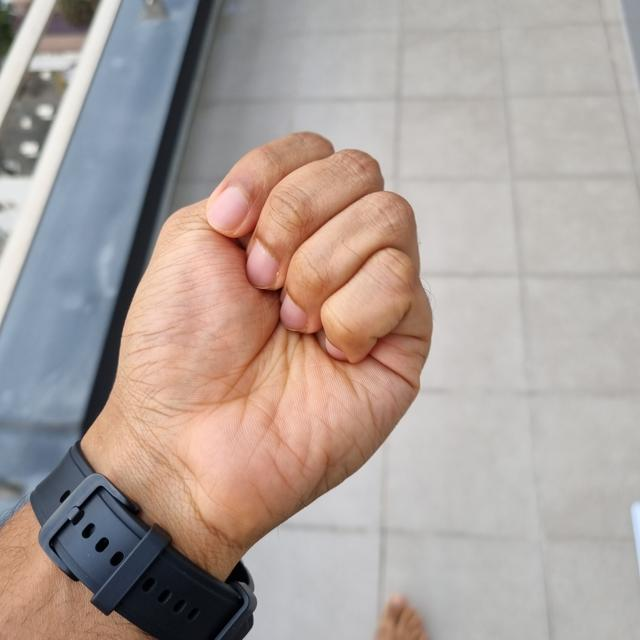Rock: (88, 130, 425, 551)
